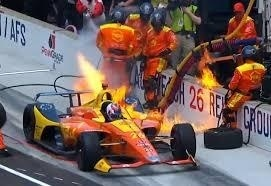fire: (73, 53, 135, 110), (146, 105, 221, 134), (196, 48, 223, 90)
